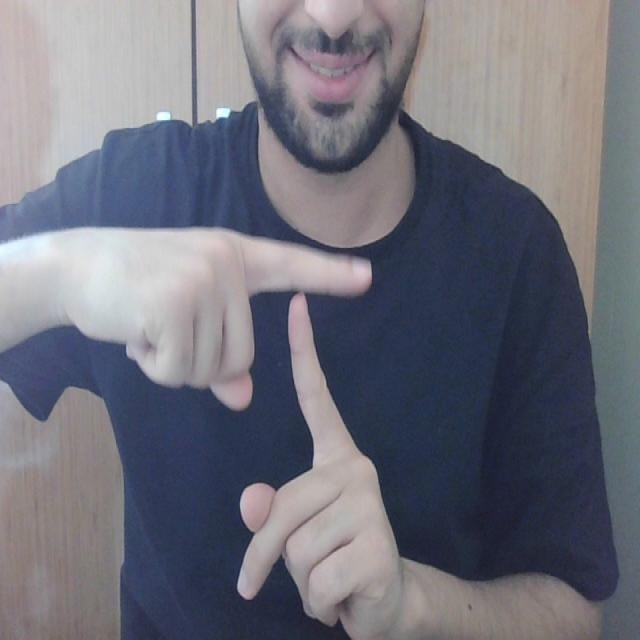Tesekkurler: (223, 220, 386, 518)
